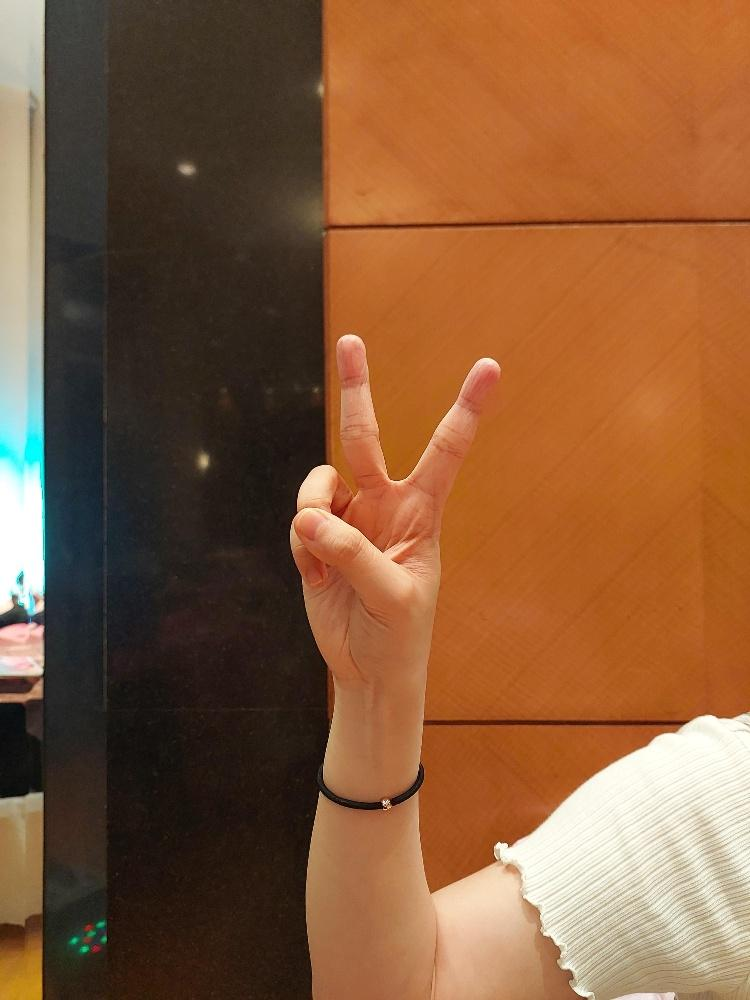v: (286, 330, 503, 694)
